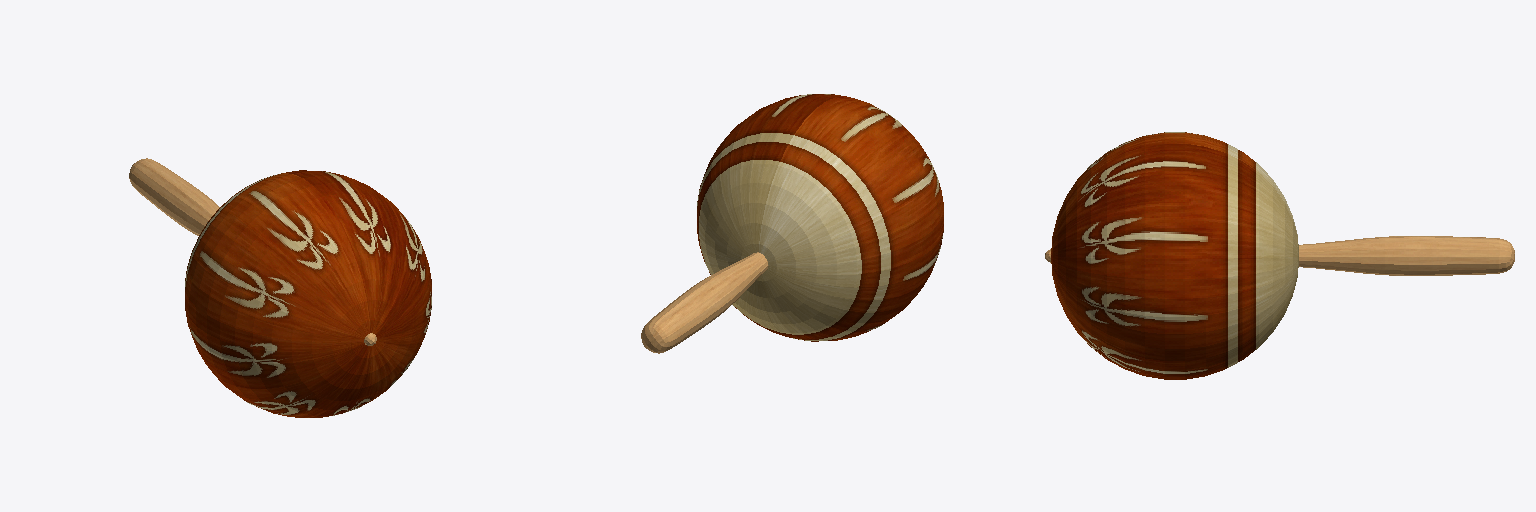
The picture shows the model from 3 angles: view 1: azimuth 30°, elevation 25°; view 2: azimuth 150°, elevation 25°; view 3: azimuth 270°, elevation 25°; orthographic projection.
Parts seen in each view (by area): view 1: Guiro, Mango01; view 2: Guiro, Mango01; view 3: Guiro, Mango01.
Part boxes in pixels (bbox=[...]): Guiro: bbox=[185, 170, 431, 417]; Mango01: bbox=[129, 158, 376, 345]; Guiro: bbox=[697, 94, 943, 341]; Mango01: bbox=[641, 252, 768, 353]; Guiro: bbox=[1051, 132, 1298, 379]; Mango01: bbox=[1045, 236, 1514, 275].
Size of the model in its own units: 79.46 by 79.73 by 152.
Materials: 2 (2 with a texture image).